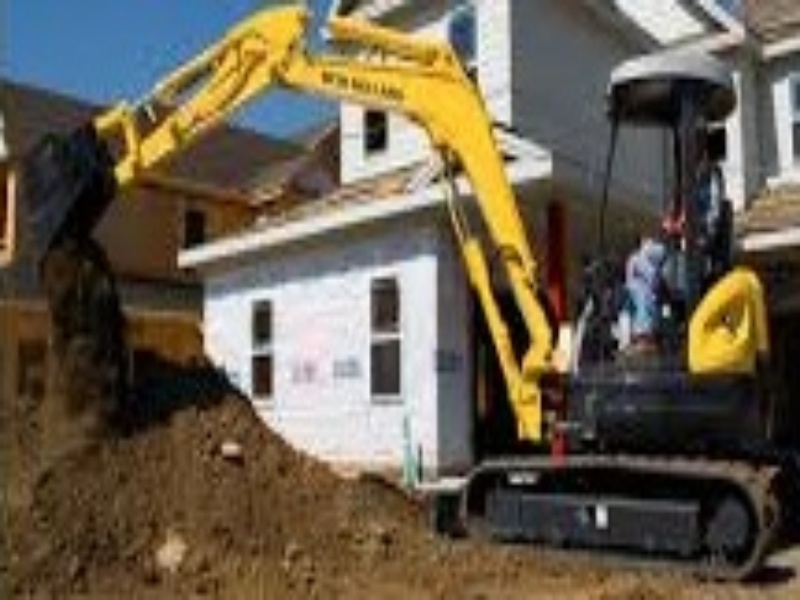wajueji: (424, 15, 788, 591)
